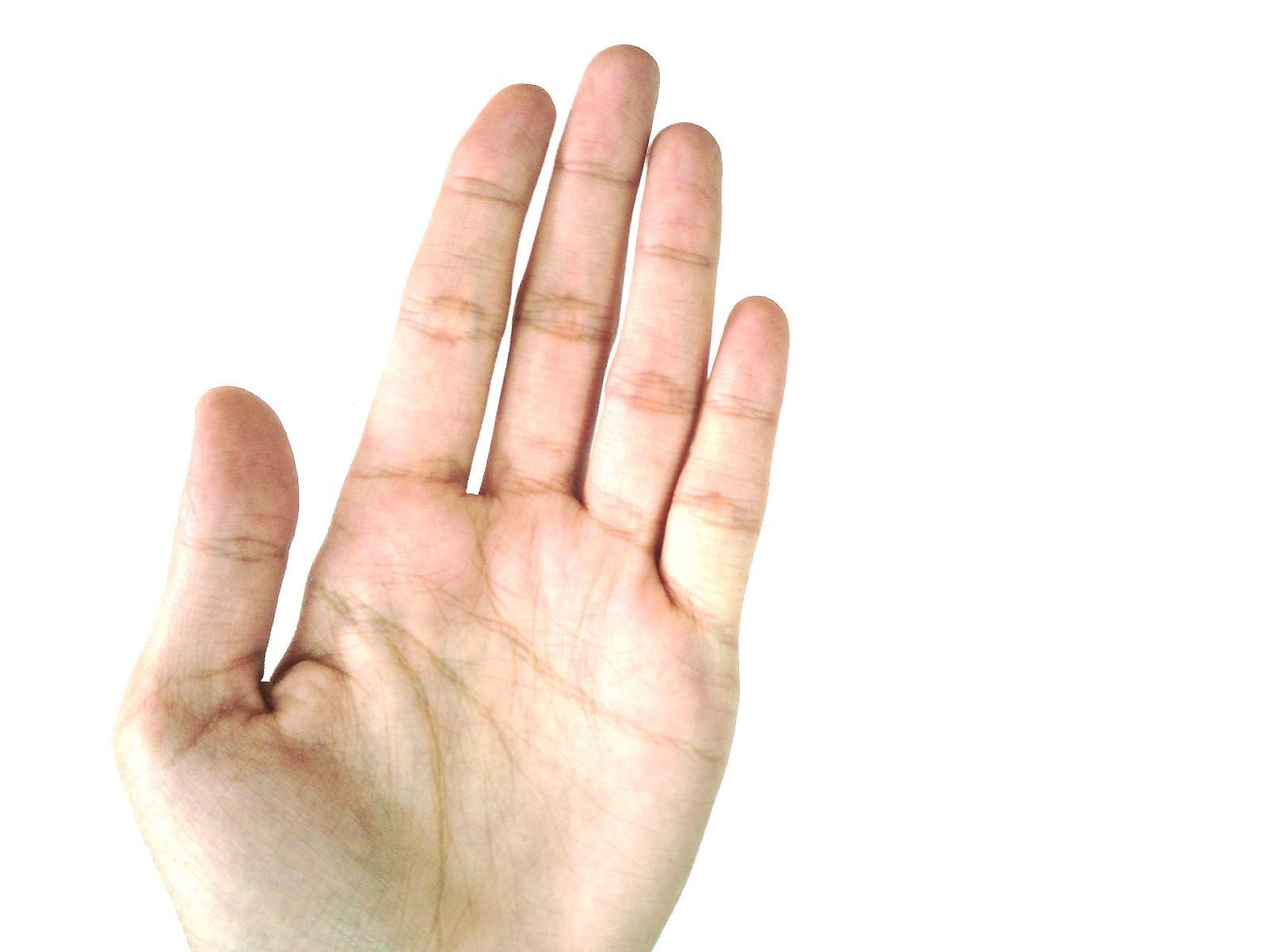open_palm: (111, 42, 794, 951)
